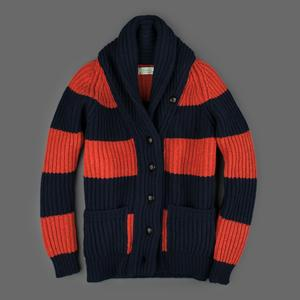S_cardigan sweater: (34, 28, 266, 291)
